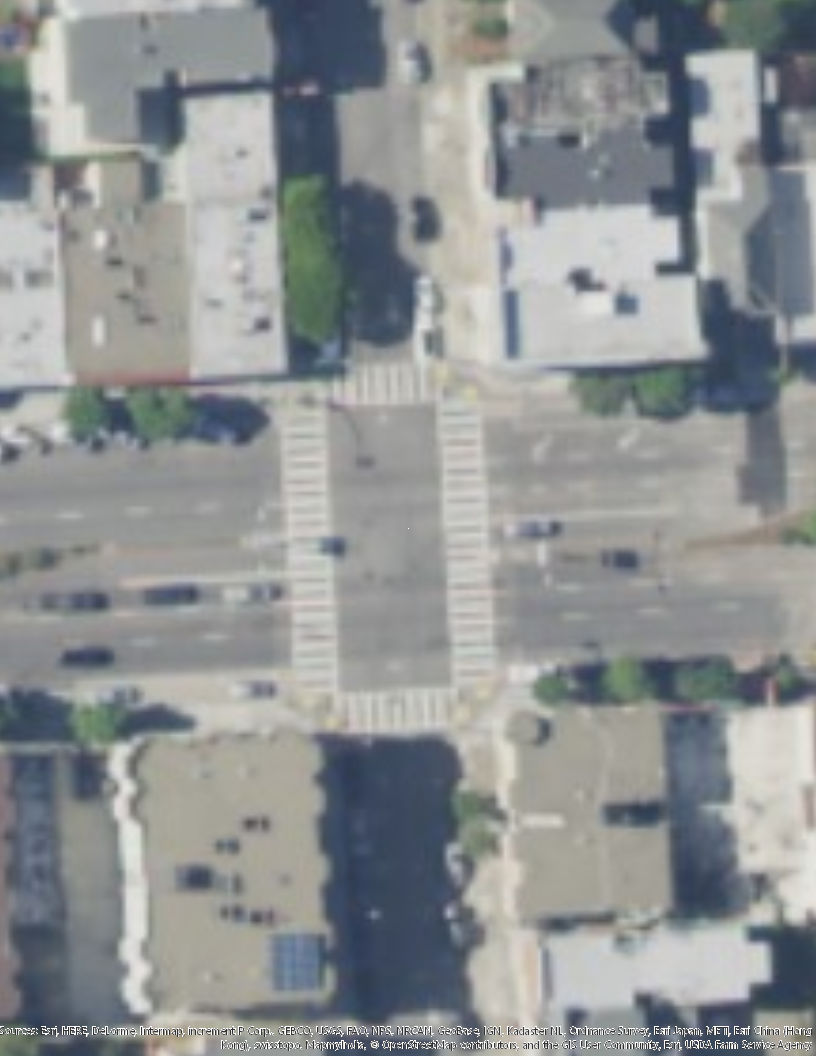zebracross: (277, 403, 338, 689), (435, 402, 495, 685), (344, 683, 457, 737), (324, 362, 445, 404)
